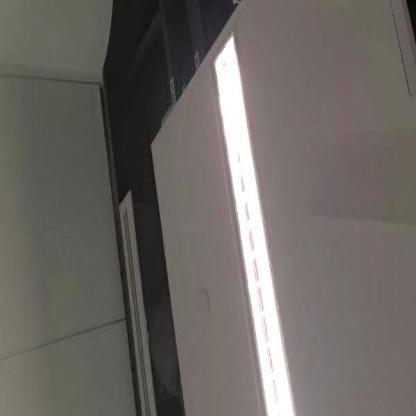light_on: (206, 28, 299, 415)
